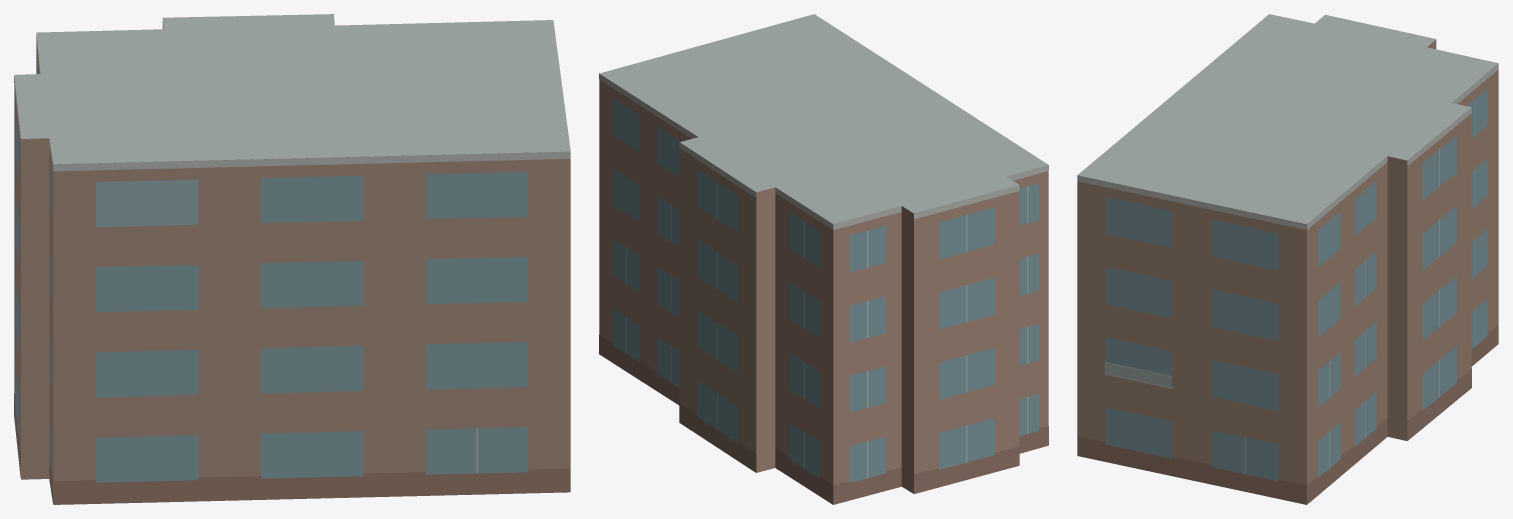
Rendered from survey-upis-32845400.glb.
The picture shows the model from 3 angles, left to right: view 1: azimuth 30°, elevation 25°; view 2: azimuth 150°, elevation 25°; view 3: azimuth 270°, elevation 25°; orthographic projection. The views are drawn at different scales.
Parts seen in each view (by area): view 1: survey-upis-32845400.tmp; view 2: survey-upis-32845400.tmp; view 3: survey-upis-32845400.tmp.
Boxes of the visible parts, box(x1,y1,x2,y2) form: survey-upis-32845400.tmp: box(14, 14, 570, 504); survey-upis-32845400.tmp: box(599, 14, 1048, 504); survey-upis-32845400.tmp: box(1077, 14, 1498, 504).
Bounding box in the file's own units: 18.65 × 11.6 × 15.79.
